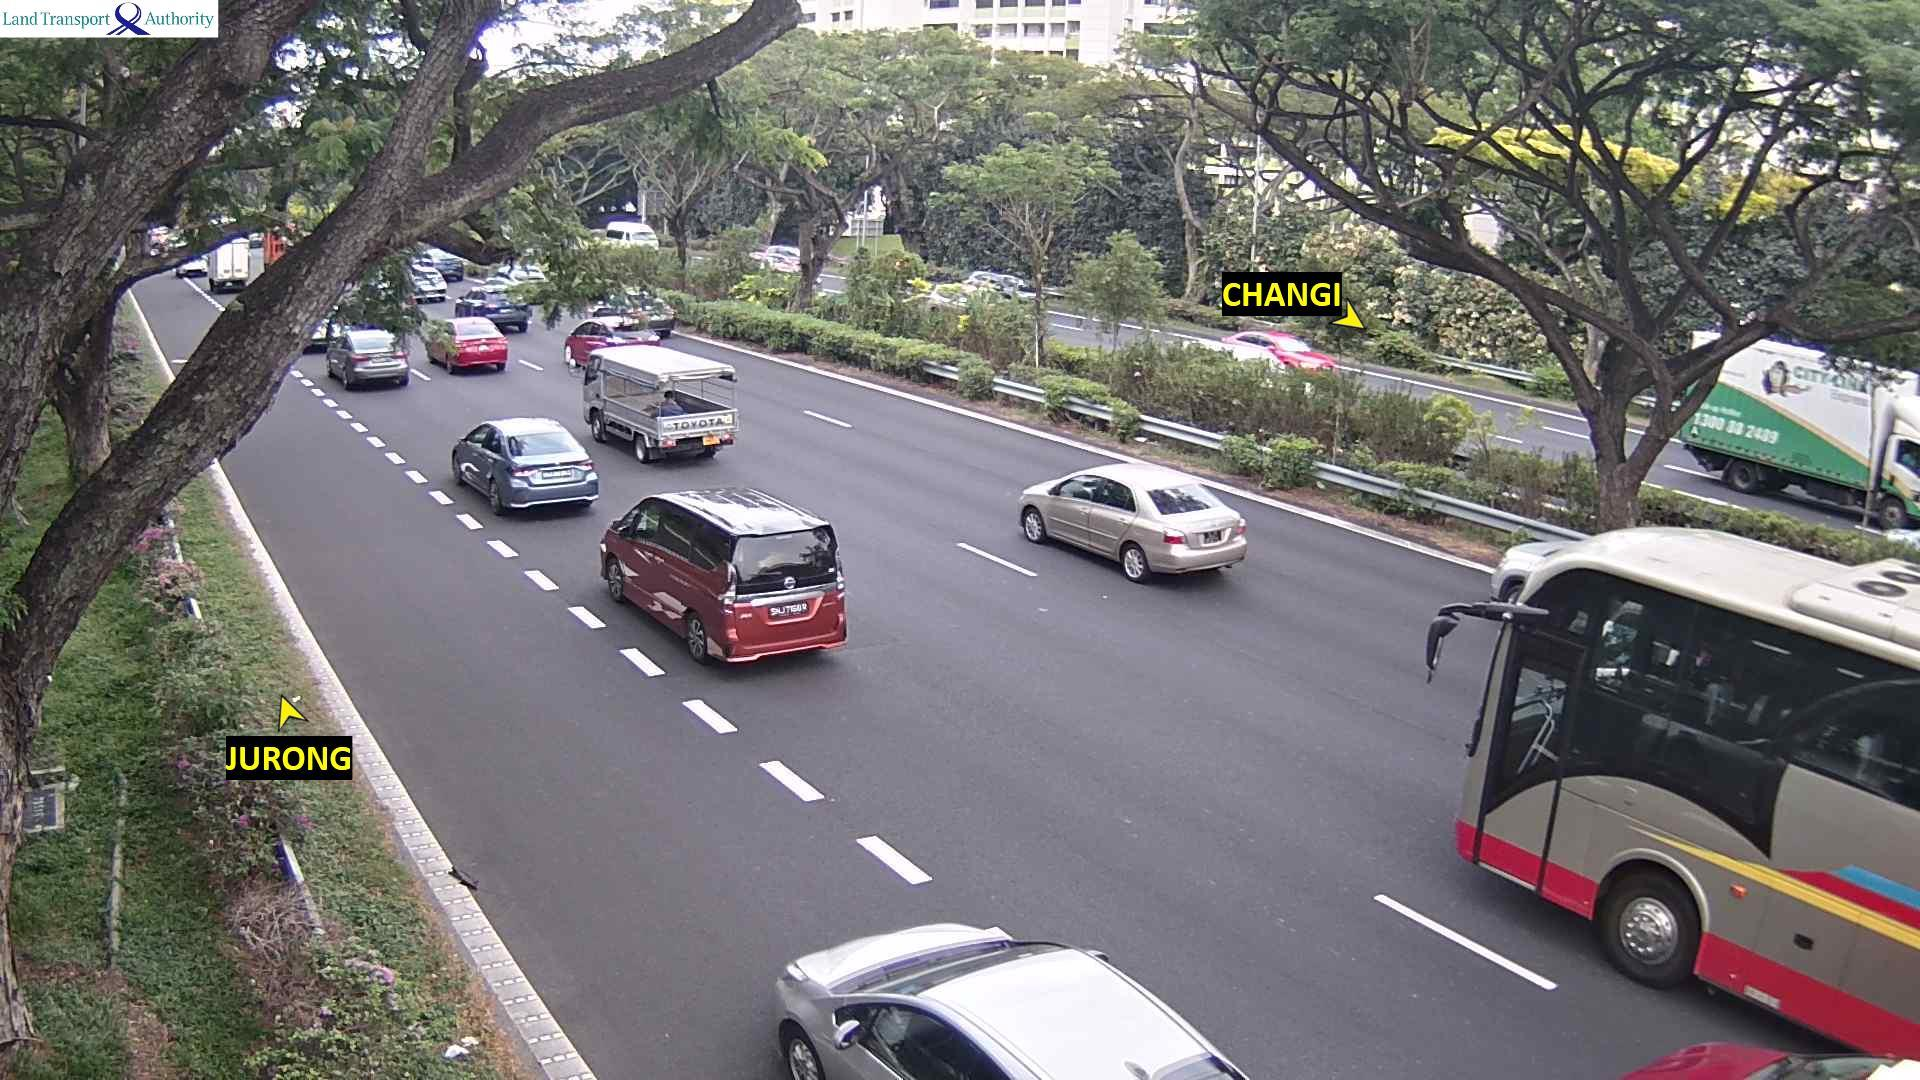cars: (772, 920, 1249, 1078), (598, 483, 847, 666), (1016, 459, 1248, 582), (449, 414, 599, 515), (1612, 1036, 1920, 1080), (562, 316, 660, 372), (1217, 329, 1338, 374), (324, 326, 409, 389), (422, 315, 508, 373), (1180, 333, 1288, 375), (586, 288, 676, 336), (453, 286, 531, 333), (963, 269, 1037, 301), (589, 219, 659, 251), (921, 281, 981, 312), (415, 246, 464, 281), (405, 263, 447, 303), (306, 312, 346, 349), (495, 258, 546, 283), (748, 251, 802, 273), (764, 240, 805, 264), (146, 223, 172, 256), (174, 254, 208, 277), (245, 227, 267, 249)
trucks: (1424, 522, 1918, 1059), (1677, 325, 1918, 531), (580, 343, 739, 463), (204, 228, 253, 293), (263, 218, 309, 275)
